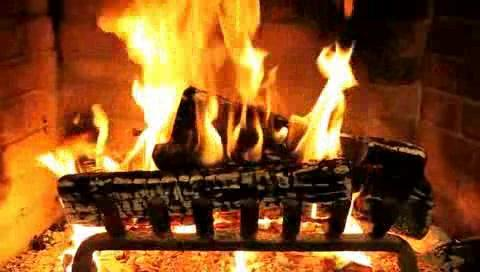fire: (6, 1, 480, 166)
